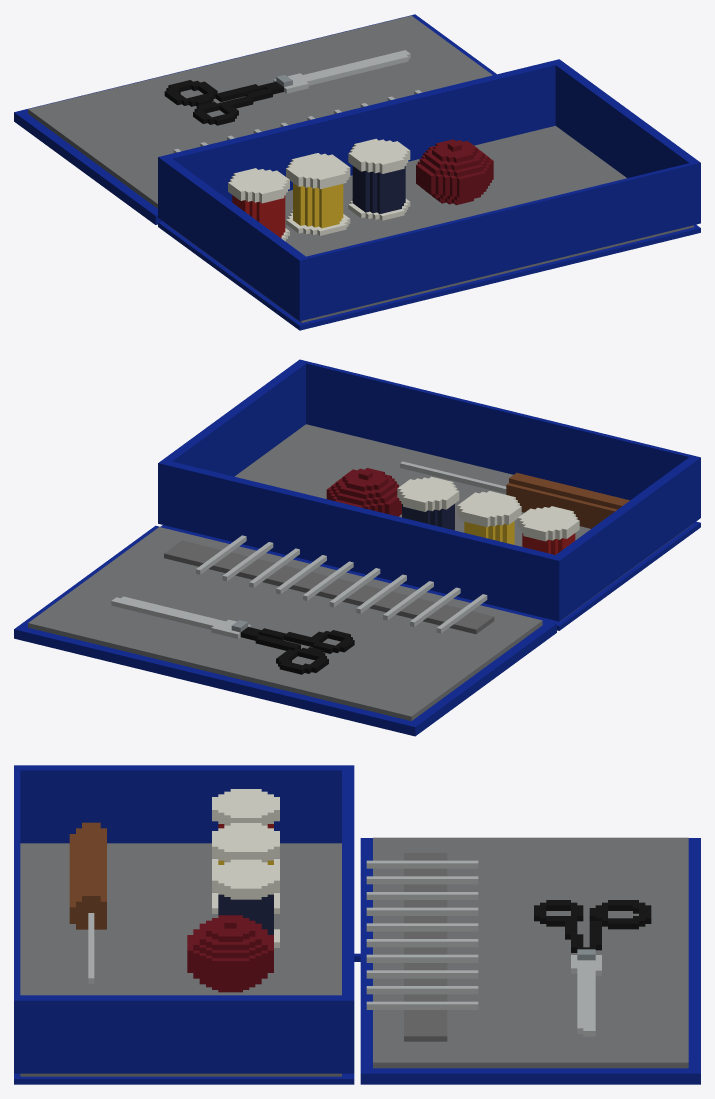
File: tailors_kit.glb
3 views of the same model, one above another, from view 1: azimuth 30°, elevation 25°; view 2: azimuth 150°, elevation 25°; view 3: azimuth 270°, elevation 25° (orthographic). The views are drawn at different scales.
Visible parts, largest first — view 1: tailors_kit:compound; view 2: tailors_kit:compound; view 3: tailors_kit:compound.
Boxes of the visible parts, box(x1,y1,x2,y2) form: tailors_kit:compound: box(14, 14, 700, 330); tailors_kit:compound: box(14, 359, 700, 736); tailors_kit:compound: box(14, 765, 700, 1084).
Bounding box in the file's own units: 0.18 × 0.03 × 0.222.
